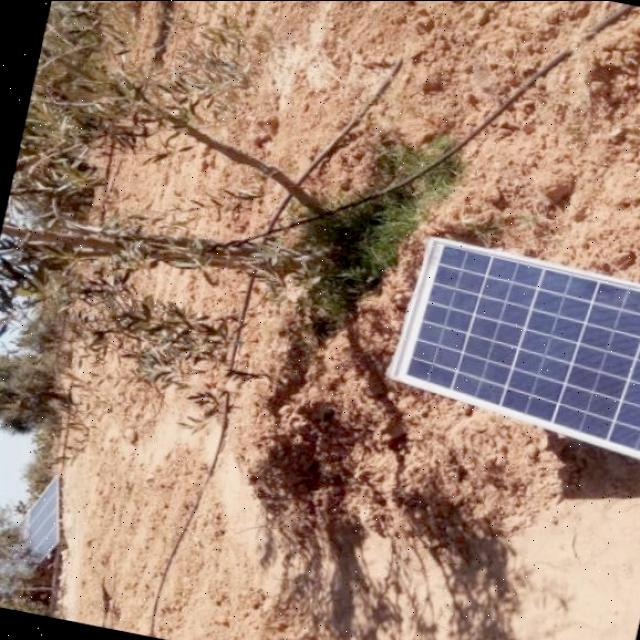Normal Solar Panel: (384, 235, 640, 467)
